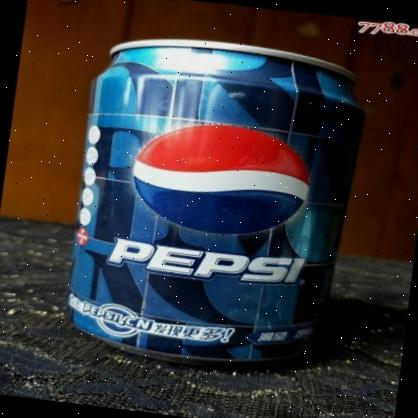can: (55, 22, 371, 386)
